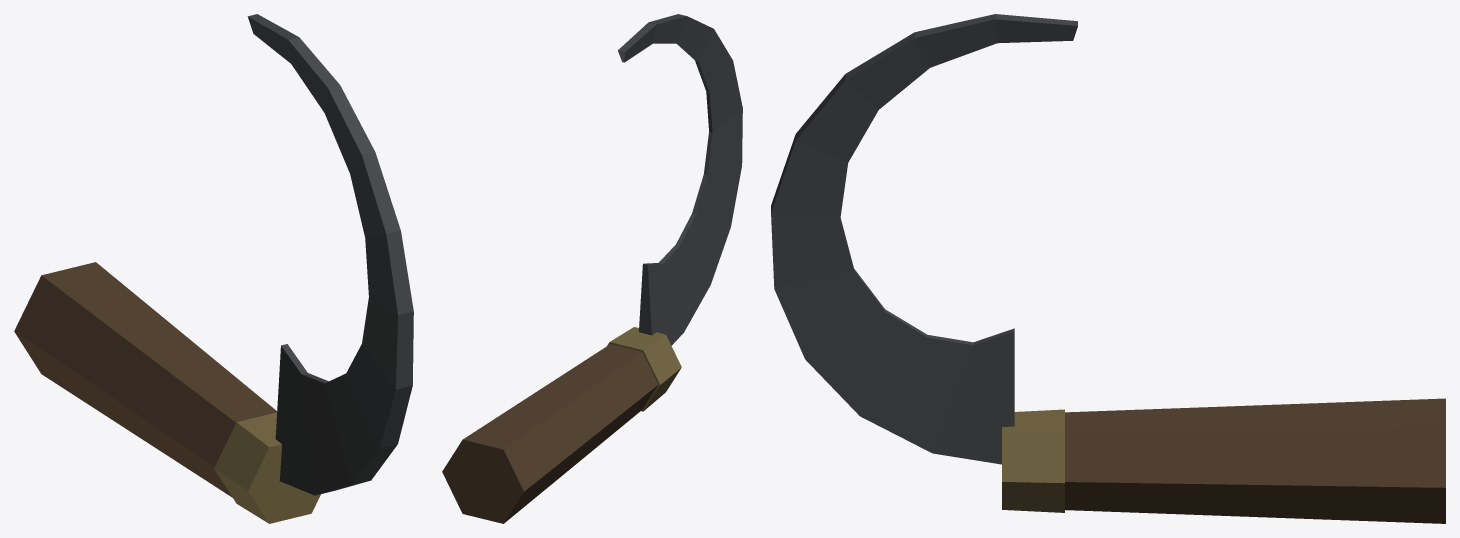
File: rice_sickle.glb
The picture shows the model from 3 angles, left to right: view 1: azimuth 30°, elevation 25°; view 2: azimuth 150°, elevation 25°; view 3: azimuth 270°, elevation 25°; orthographic projection. The views are drawn at different scales.
Parts seen in each view (by area): view 1: rice_sickle; view 2: rice_sickle; view 3: rice_sickle.
Boxes of the visible parts, x1,y1,x2,y2 form: rice_sickle: (14,14,413,523); rice_sickle: (442,14,742,523); rice_sickle: (771,14,1445,523).
Size of the model in its own units: 0.04 by 0.1731 by 0.2143.
Materials: 1 (1 with a texture image).
